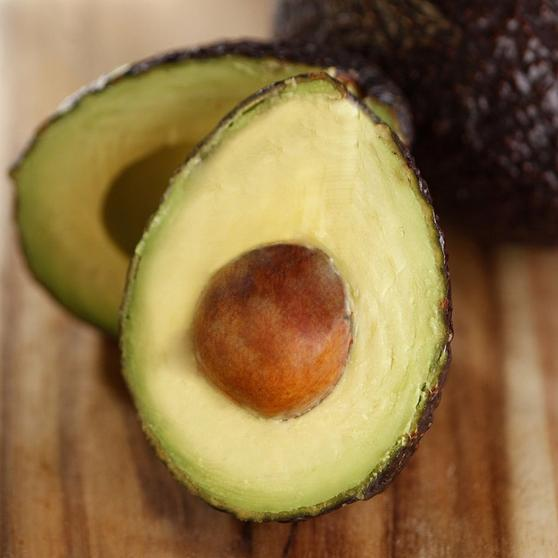avocado: (293, 5, 558, 239)
